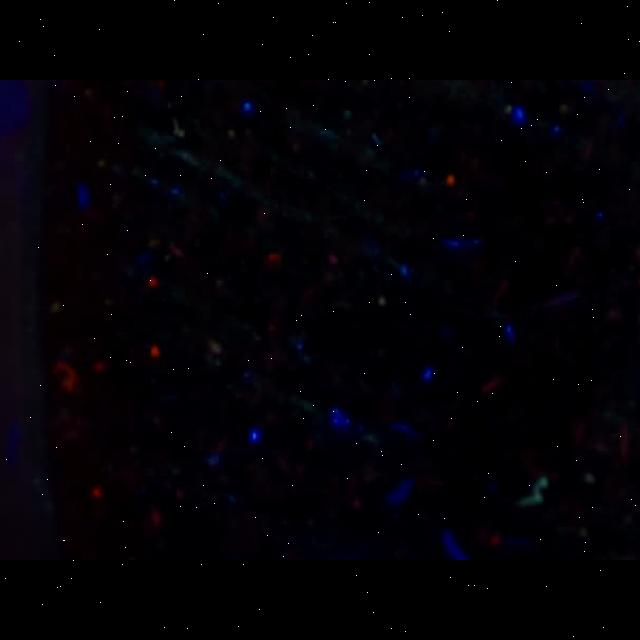Fibre: (516, 476, 550, 512)
